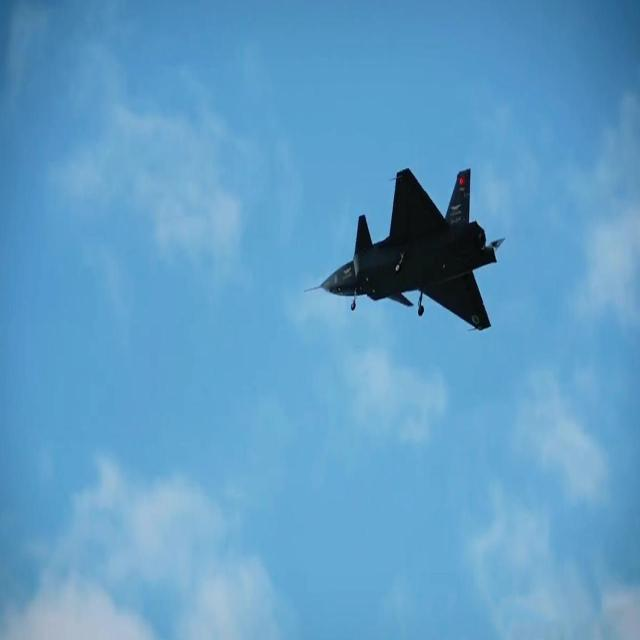drones: (294, 145, 510, 362)
